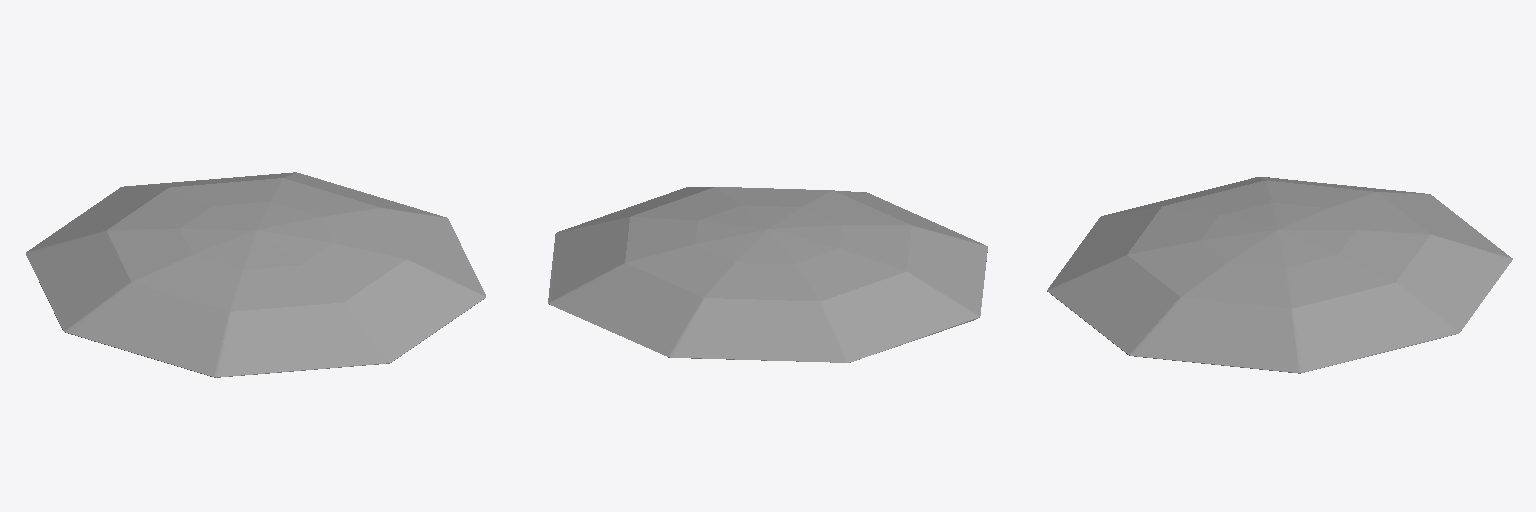
The model's file is UmbrellaTop.obj.
The picture shows the model from 3 angles: view 1: azimuth 30°, elevation 25°; view 2: azimuth 150°, elevation 25°; view 3: azimuth 270°, elevation 25°; orthographic projection.
Visible parts, largest first — view 1: UmbrellaTop_Cylinder06; view 2: UmbrellaTop_Cylinder06; view 3: UmbrellaTop_Cylinder06.
Boxes of the visible parts, box(x1,y1,x2,y2) form: UmbrellaTop_Cylinder06: box(26, 172, 485, 377); UmbrellaTop_Cylinder06: box(548, 187, 987, 362); UmbrellaTop_Cylinder06: box(1047, 177, 1512, 373).
Size of the model in its own units: 2.71 by 0.3398 by 2.71.